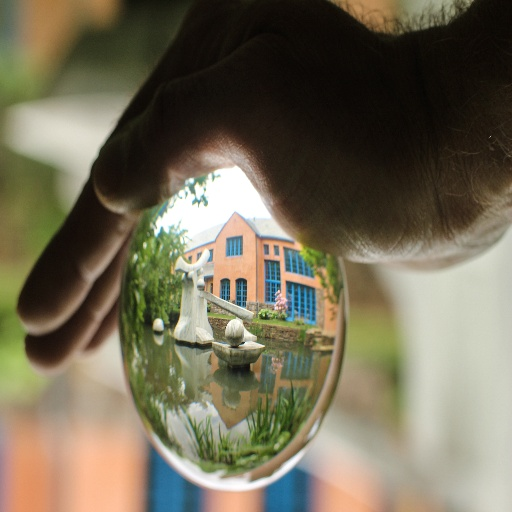hand: (16, 0, 464, 384)
